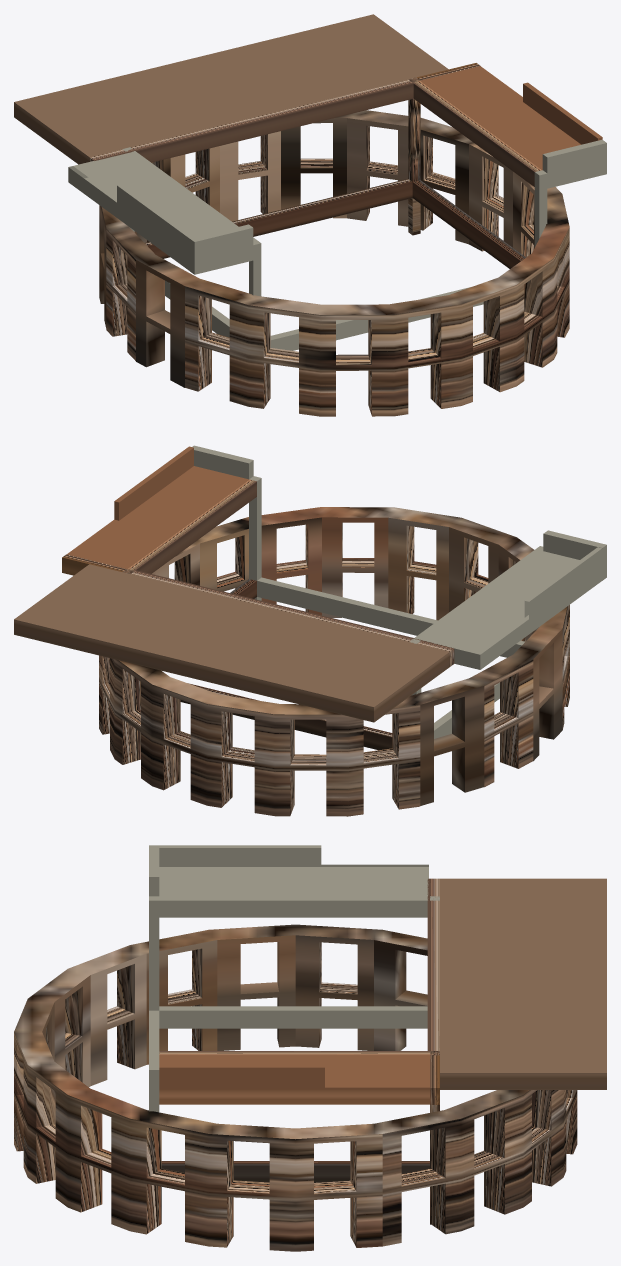
Rendered from koro.fbx.
The picture shows the model from 3 angles, top to bottom: view 1: azimuth 30°, elevation 25°; view 2: azimuth 150°, elevation 25°; view 3: azimuth 270°, elevation 25°; orthographic projection. The views are drawn at different scales.
Visible parts, largest first — view 1: pCylinder1, pasted__pCube2 (×2), pasted__pasted__pCube2, pCube2; view 2: pCylinder1, pasted__pCube2 (×2), pasted__pasted__pCube2, pCube2; view 3: pCylinder1, pasted__pCube2 (×2), pCube2, pasted__pasted__pCube2.
Part boxes in pixels (x1=…): pCylinder1: x1=99, y1=110, x2=569, y2=416; pasted__pCube2 (×2): x1=14, y1=14, x2=602, y2=296; pasted__pasted__pCube2: x1=270, y1=139, x2=606, y2=350; pCube2: x1=122, y1=147, x2=229, y2=337; pCylinder1: x1=99, y1=507, x2=569, y2=816; pasted__pCube2 (×2): x1=14, y1=446, x2=606, y2=750; pasted__pasted__pCube2: x1=192, y1=445, x2=524, y2=657; pCube2: x1=410, y1=639, x2=499, y2=738; pCylinder1: x1=14, y1=924, x2=577, y2=1251; pasted__pCube2 (×2): x1=149, y1=845, x2=606, y2=1224; pCube2: x1=159, y1=896, x2=439, y2=1028; pasted__pasted__pCube2: x1=149, y1=1010, x2=159, y2=1112.
Bounding box in the file's own units: 1065 × 422 × 1195.
